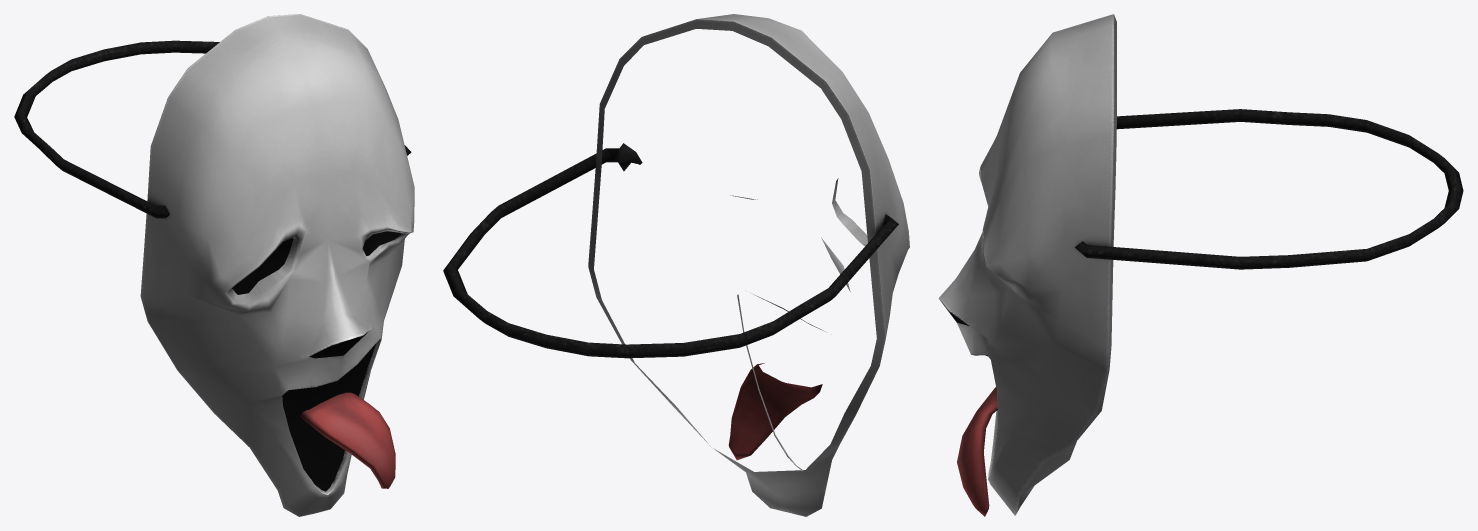
File: boo.glb
3 views of the same model, side by side, from view 1: azimuth 30°, elevation 25°; view 2: azimuth 150°, elevation 25°; view 3: azimuth 270°, elevation 25° (orthographic). The views are drawn at different scales.
Parts seen in each view (by area): view 1: Scare; view 2: Scare; view 3: Scare.
Boxes of the visible parts, <box> form: Scare: <box>14,14,414,516</box>; Scare: <box>443,14,909,516</box>; Scare: <box>938,14,1463,516</box>.
Size of the model in its own units: 0.1769 by 0.2602 by 0.256.
1 material, 1 textured.
